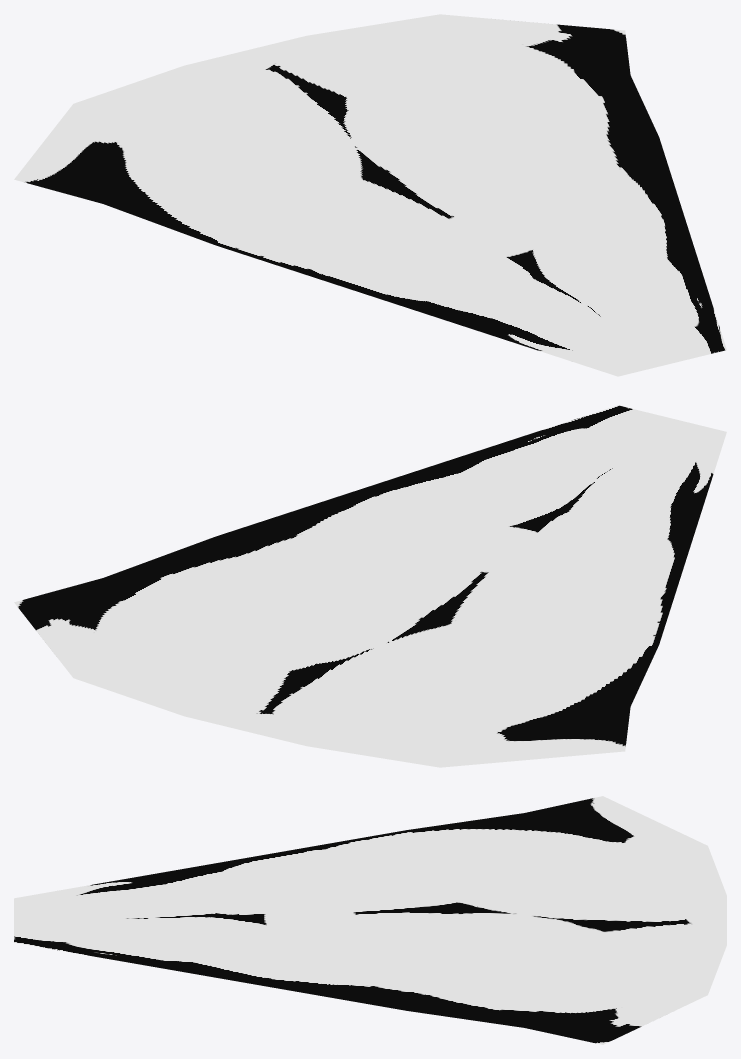
The model's file is FireAttack.fbx.
3 views of the same model, one above another, from view 1: azimuth 30°, elevation 25°; view 2: azimuth 150°, elevation 25°; view 3: azimuth 270°, elevation 25° (orthographic). The views are drawn at different scales.
Visible parts, largest first — view 1: Cone01; view 2: Cone01; view 3: Cone01.
Boxes of the visible parts, x1,y1,x2,y2 form: Cone01: (14,14,726,376); Cone01: (14,405,726,767); Cone01: (14,796,726,1044).
Size of the model in its own units: 200 by 3.94e-05 by 242.
